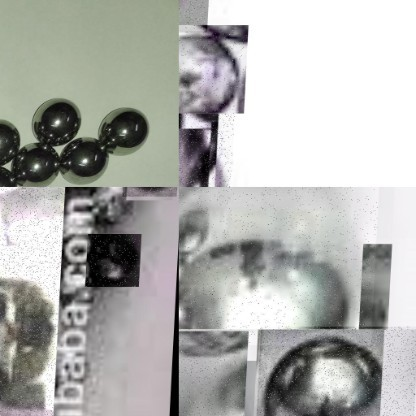ironball: (178, 186, 382, 344), (0, 186, 67, 415), (257, 326, 415, 415), (178, 24, 250, 113), (178, 330, 251, 415), (178, 90, 239, 186), (86, 233, 142, 286), (54, 135, 114, 184), (29, 95, 87, 143), (8, 140, 67, 186), (93, 105, 148, 154), (0, 115, 24, 161), (122, 186, 178, 196)
